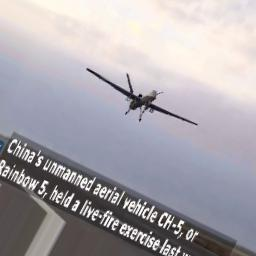wingloong: (86, 67, 204, 132)
